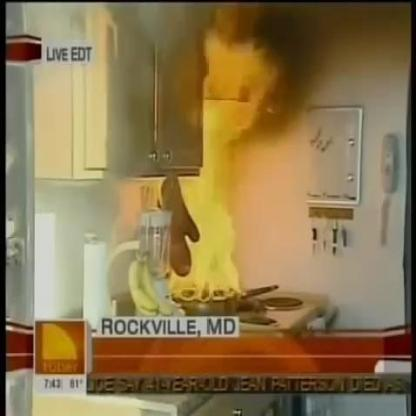fire: (154, 22, 285, 300)
